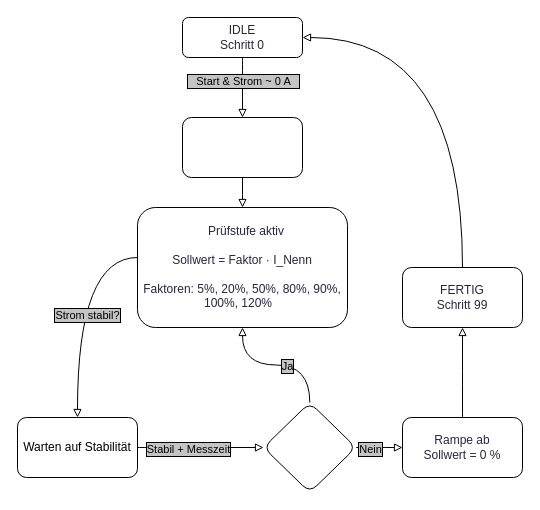
The diagram is 540 pixels wide and 510 high, and some of its shapes have lost their labels. Each missing label, with the centre of its shape:
"Initialisierung erste Prüfstufe" goes at pixel 242 147.
"Weitere Prüfstufen?" goes at pixel 309 447.
